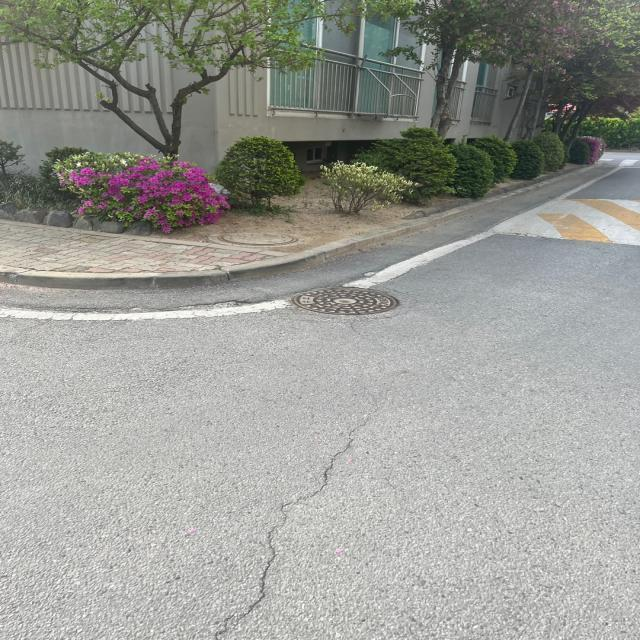Sewer Cover: (280, 279, 408, 331)
